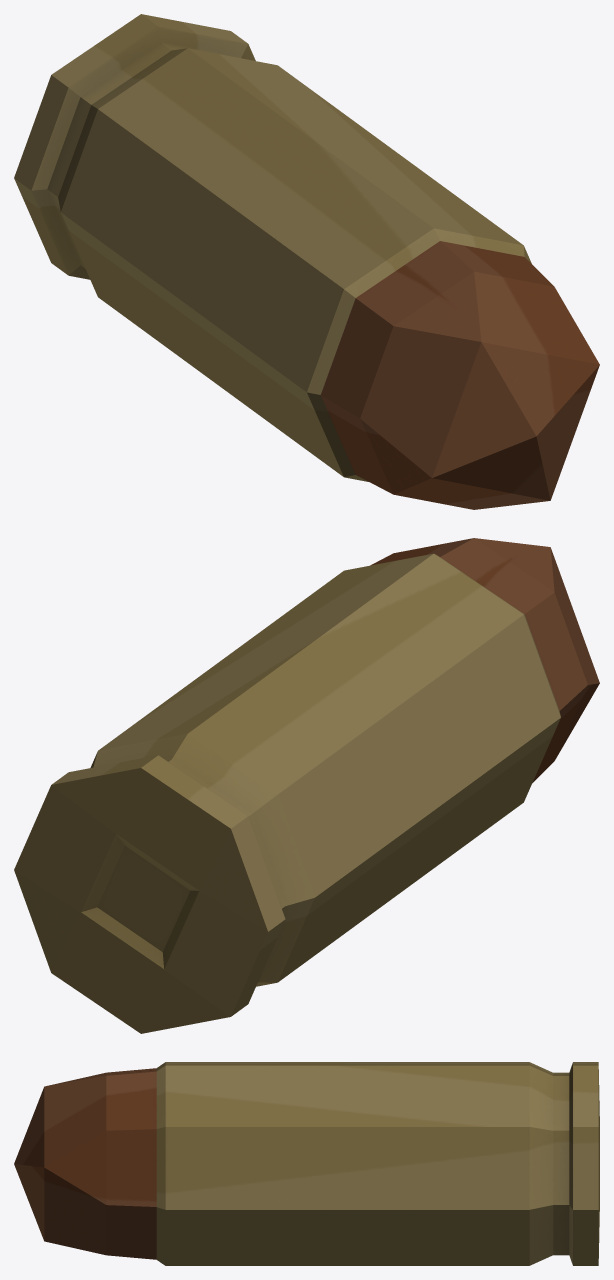
File: 45_acp_round_UVed.FBX
3 renders of one model, top to bottom at view 1: azimuth 30°, elevation 25°; view 2: azimuth 150°, elevation 25°; view 3: azimuth 270°, elevation 25°, orthographic. The views are drawn at different scales.
Visible parts, largest first — view 1: 45_acp_round; view 2: 45_acp_round; view 3: 45_acp_round.
Boxes of the visible parts, bbox=[...] form: 45_acp_round: bbox=[14, 14, 599, 509]; 45_acp_round: bbox=[14, 538, 599, 1033]; 45_acp_round: bbox=[14, 1062, 599, 1265].
Size of the model in its own units: 0.0111 by 0.0301 by 0.0111.
Materials: 1 (1 with a texture image).
